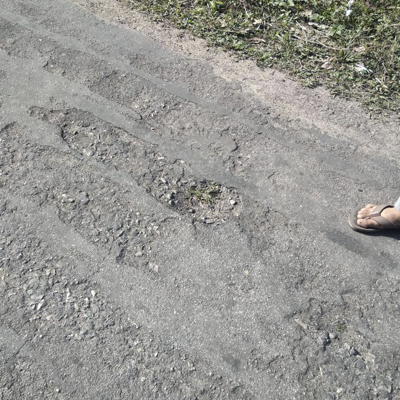pothole: (160, 178, 242, 229)
